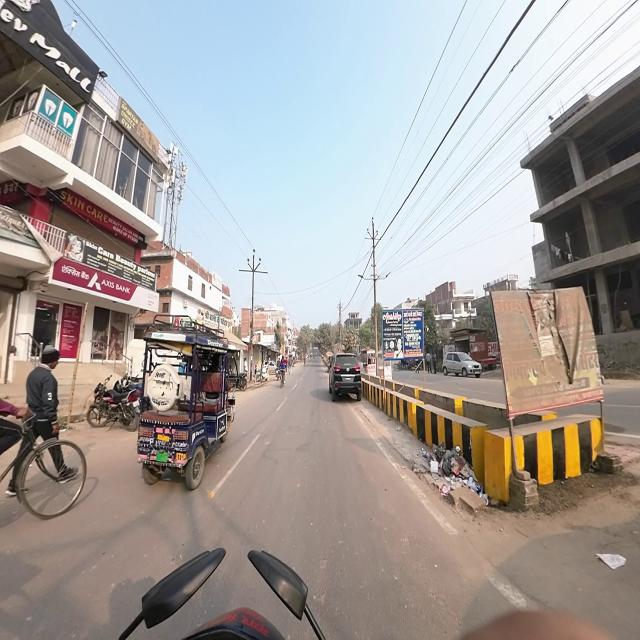Garbage: (427, 442, 483, 509)
